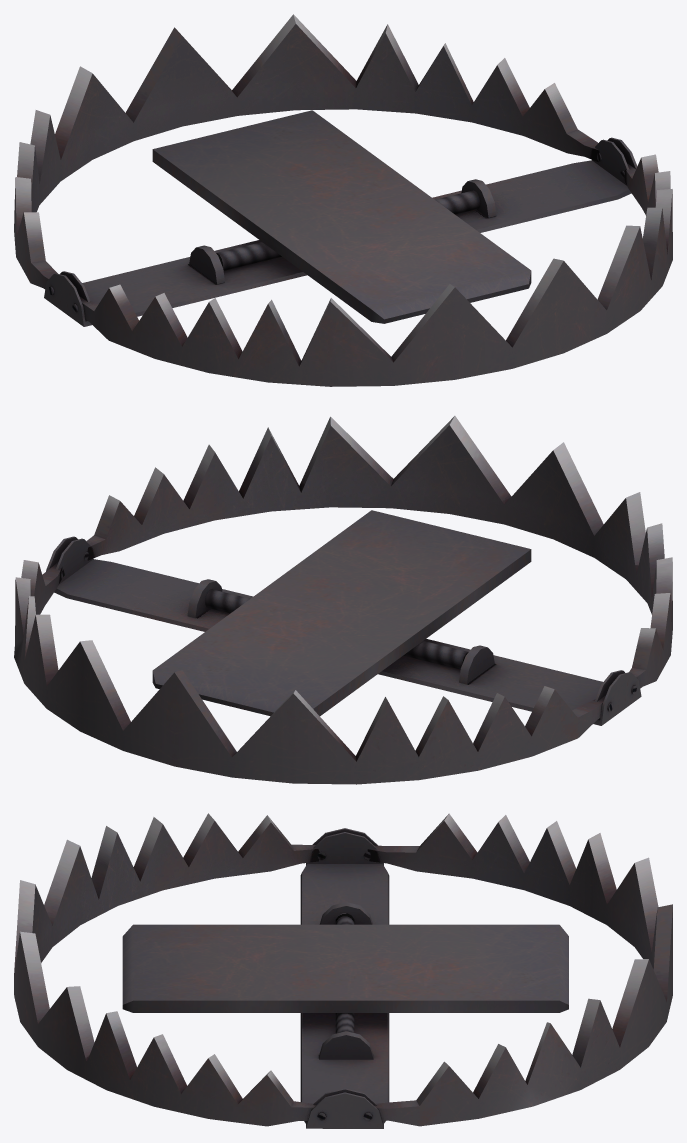
The model's file is hello_neighbor__mantrap.glb.
The picture shows the model from 3 angles, top to bottom: view 1: azimuth 30°, elevation 25°; view 2: azimuth 150°, elevation 25°; view 3: azimuth 270°, elevation 25°; orthographic projection. The views are drawn at different scales.
Parts seen in each view (by area): view 1: trap; view 2: trap; view 3: trap.
Boxes of the visible parts, <box> form: trap: <box>14,14,672,386</box>; trap: <box>14,416,672,784</box>; trap: <box>14,813,672,1128</box>.
Size of the model in its own units: 67 by 10.78 by 69.99.
1 material, 1 textured.
